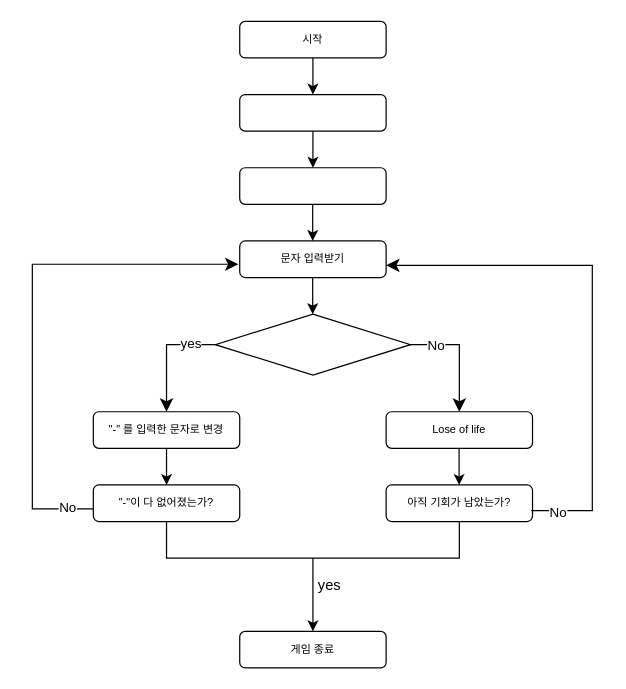
This 626x689 diagram has some shape labels left out. The box of each missing label's shape, as (x1, y1, x2, y2) in pixels:
글자수에 맞춰 "-" 표시: (239, 167, 386, 204)
단어 선택 (랜덤): (239, 93, 386, 131)
문자가 단어에 있는지 확인: (214, 313, 411, 375)
